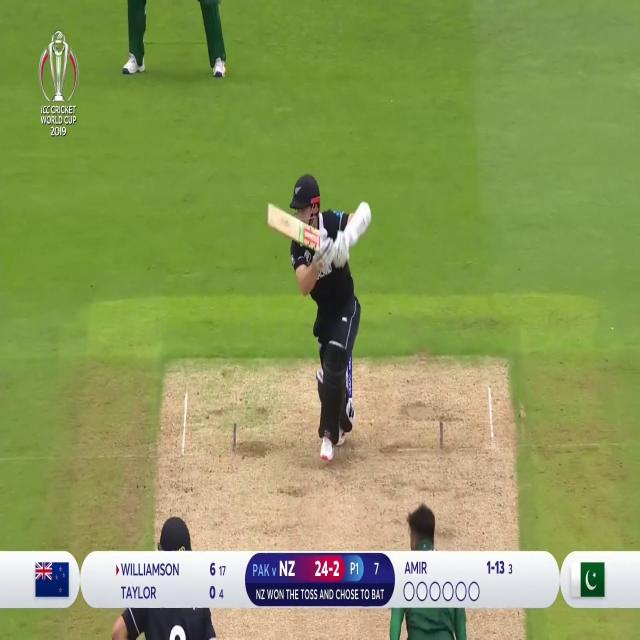bat: (266, 204, 322, 252)
